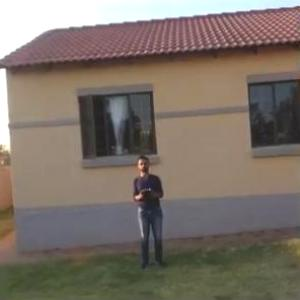follow: (131, 148, 171, 272)
